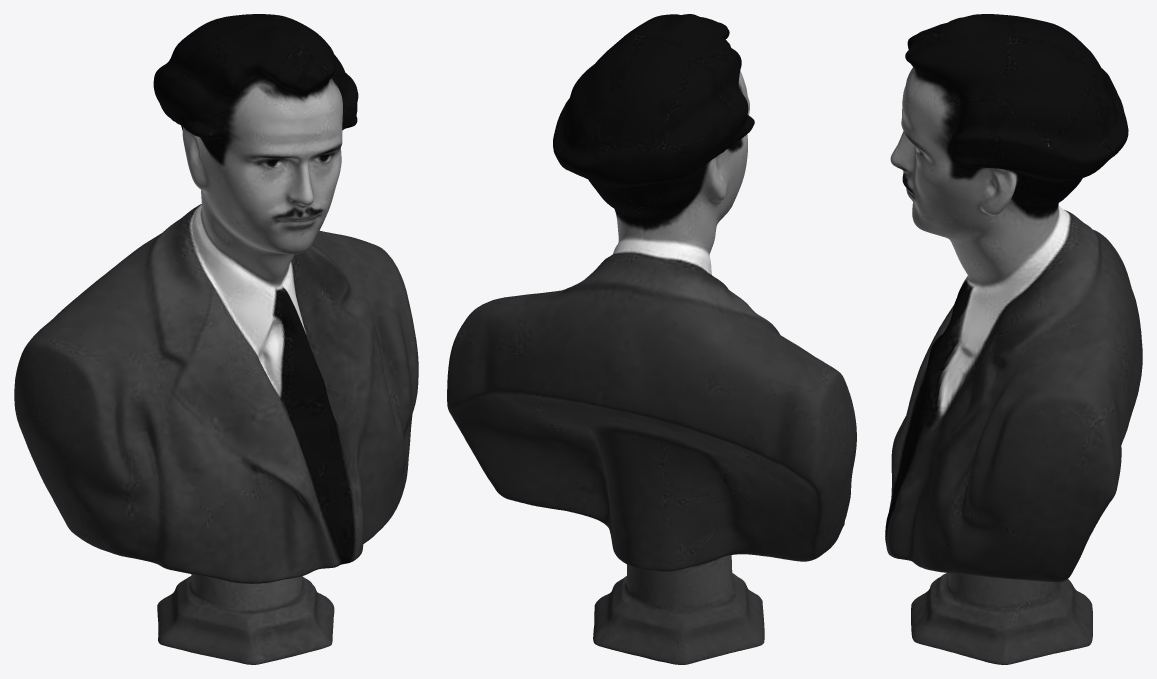
Rendered from Meshy_AI_Silent_Resolve_compressed.glb.
3 renders of one model, left to right at view 1: azimuth 30°, elevation 25°; view 2: azimuth 150°, elevation 25°; view 3: azimuth 270°, elevation 25°, orthographic. The views are drawn at different scales.
Size of the model in its own units: 1.24 by 1.9 by 0.7236.
Materials: 1 (1 with a texture image).
